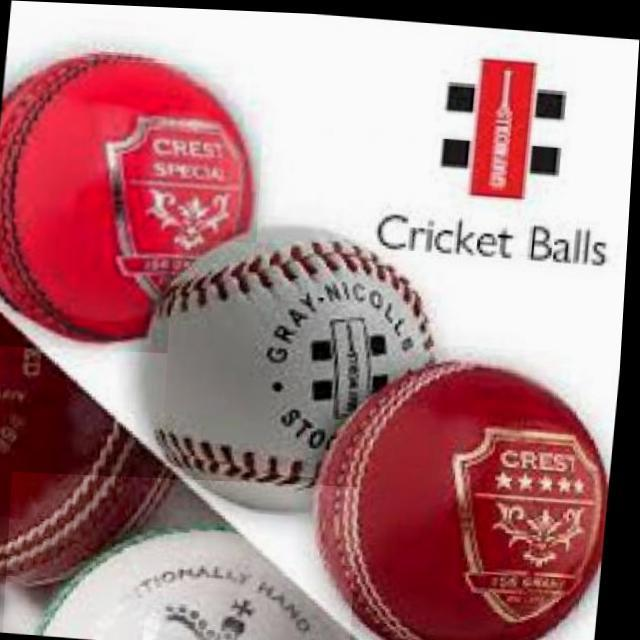-: (334, 338, 616, 640), (0, 56, 267, 354), (165, 238, 408, 498), (10, 471, 365, 640)
